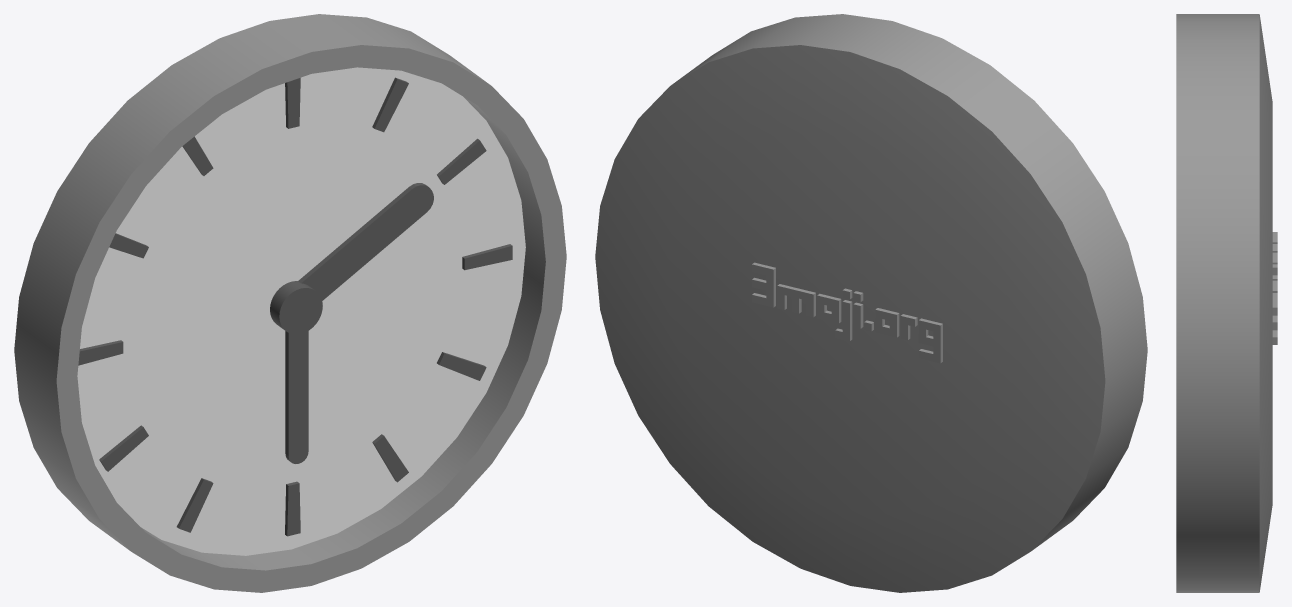
Rendered from two_thirty.gltf.
3 views of the same model, side by side, from view 1: azimuth 30°, elevation 25°; view 2: azimuth 150°, elevation 25°; view 3: azimuth 270°, elevation 25° (orthographic).
Visible parts, largest first — view 1: Circle.2444; view 2: Circle.2444; view 3: Circle.2444.
Part boxes in pixels (<box>): Circle.2444: <box>14,14,566,592</box>; Circle.2444: <box>595,14,1147,592</box>; Circle.2444: <box>1176,14,1277,592</box>.
Size of the model in its own units: 2.33 by 2.33 by 0.4069.
1 material, 1 textured.
